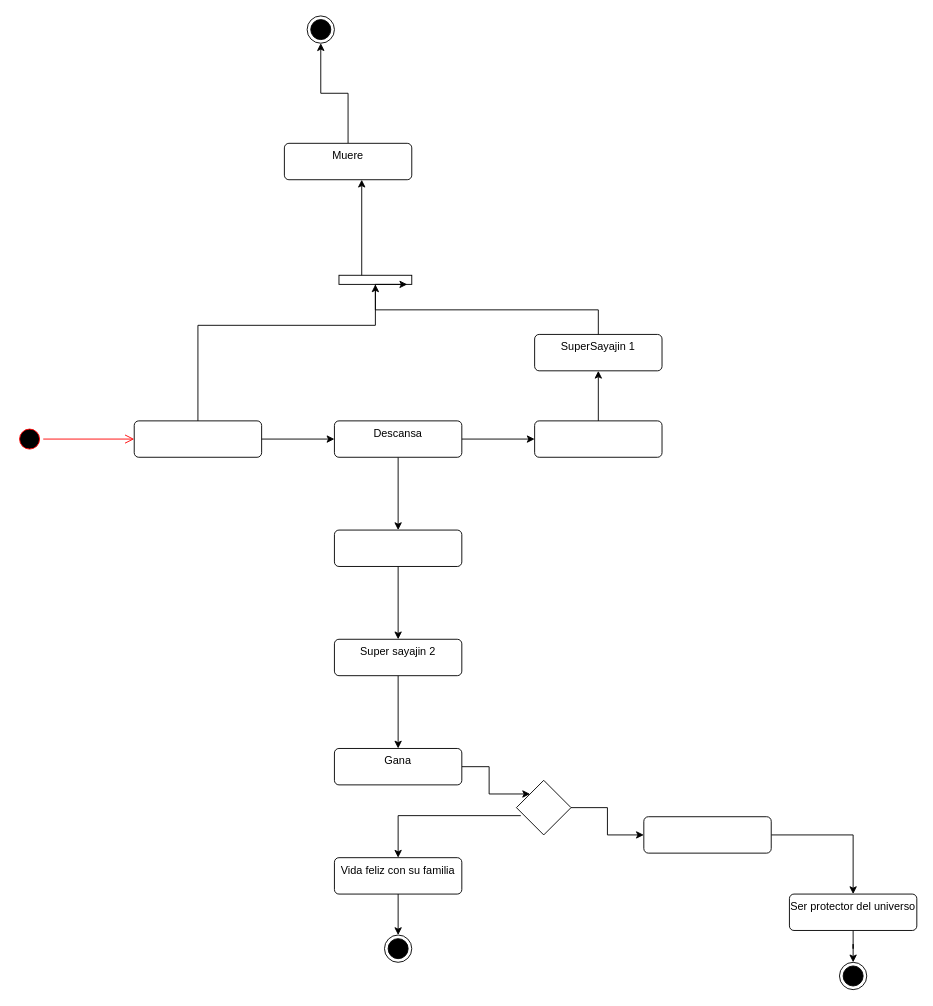
The diagram is 933 pixels wide and 1006 high, and some of its shapes have lost their labels. The shapes that lost their labels are listed below. From the top down, each one's box as (x1, y1, x2, y2) in pixels, then its label:
(133, 420, 262, 457): Herido
(534, 420, 662, 457): Entrenar
(334, 529, 462, 566): Entrenar en capsula del tiempo
(643, 816, 771, 853): Seguir entrenando
